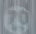Speed limit: (1, 2, 33, 33)
